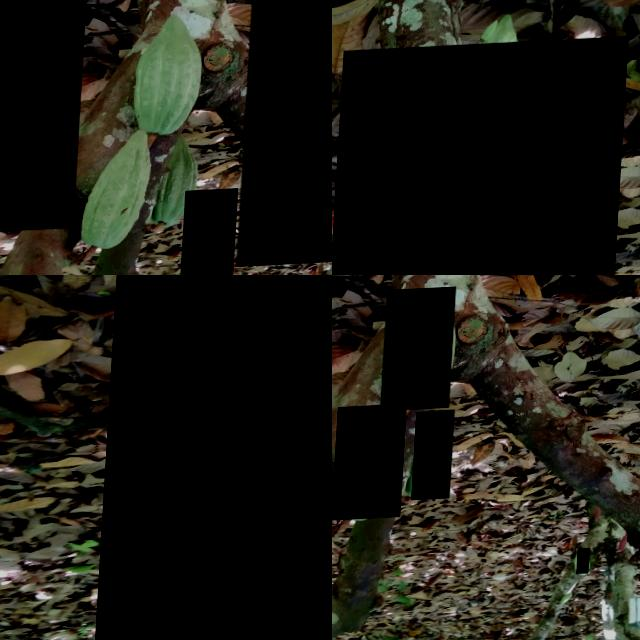Fitoftora: (0, 0, 90, 236)
Monilia: (241, 0, 332, 271)
Sana: (97, 275, 332, 640), (332, 42, 629, 275), (384, 291, 458, 414), (337, 407, 411, 523), (185, 192, 242, 275), (416, 414, 458, 504), (582, 554, 596, 579)
